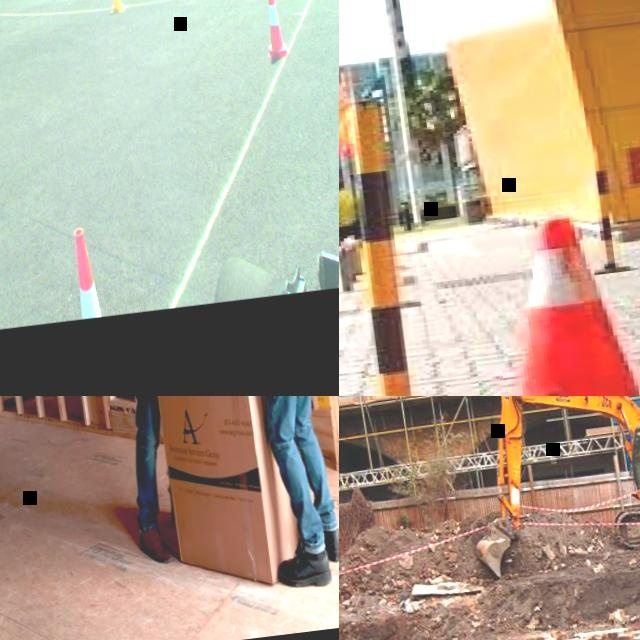NO-Hardhat: (339, 180, 342, 190)
NO-Safety Vest: (339, 192, 357, 226)
Person: (201, 396, 339, 589), (81, 396, 229, 557), (339, 180, 361, 249)
Safety Cone: (439, 200, 640, 396), (67, 229, 102, 318), (257, 0, 288, 60), (104, 0, 123, 14)
machinery: (451, 396, 640, 577)
